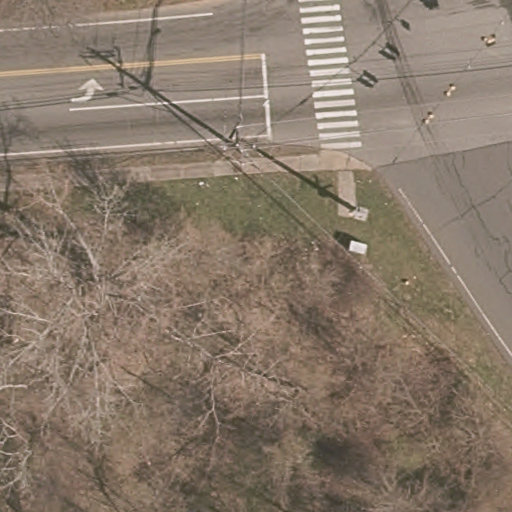DT: (212, 119, 265, 181)
